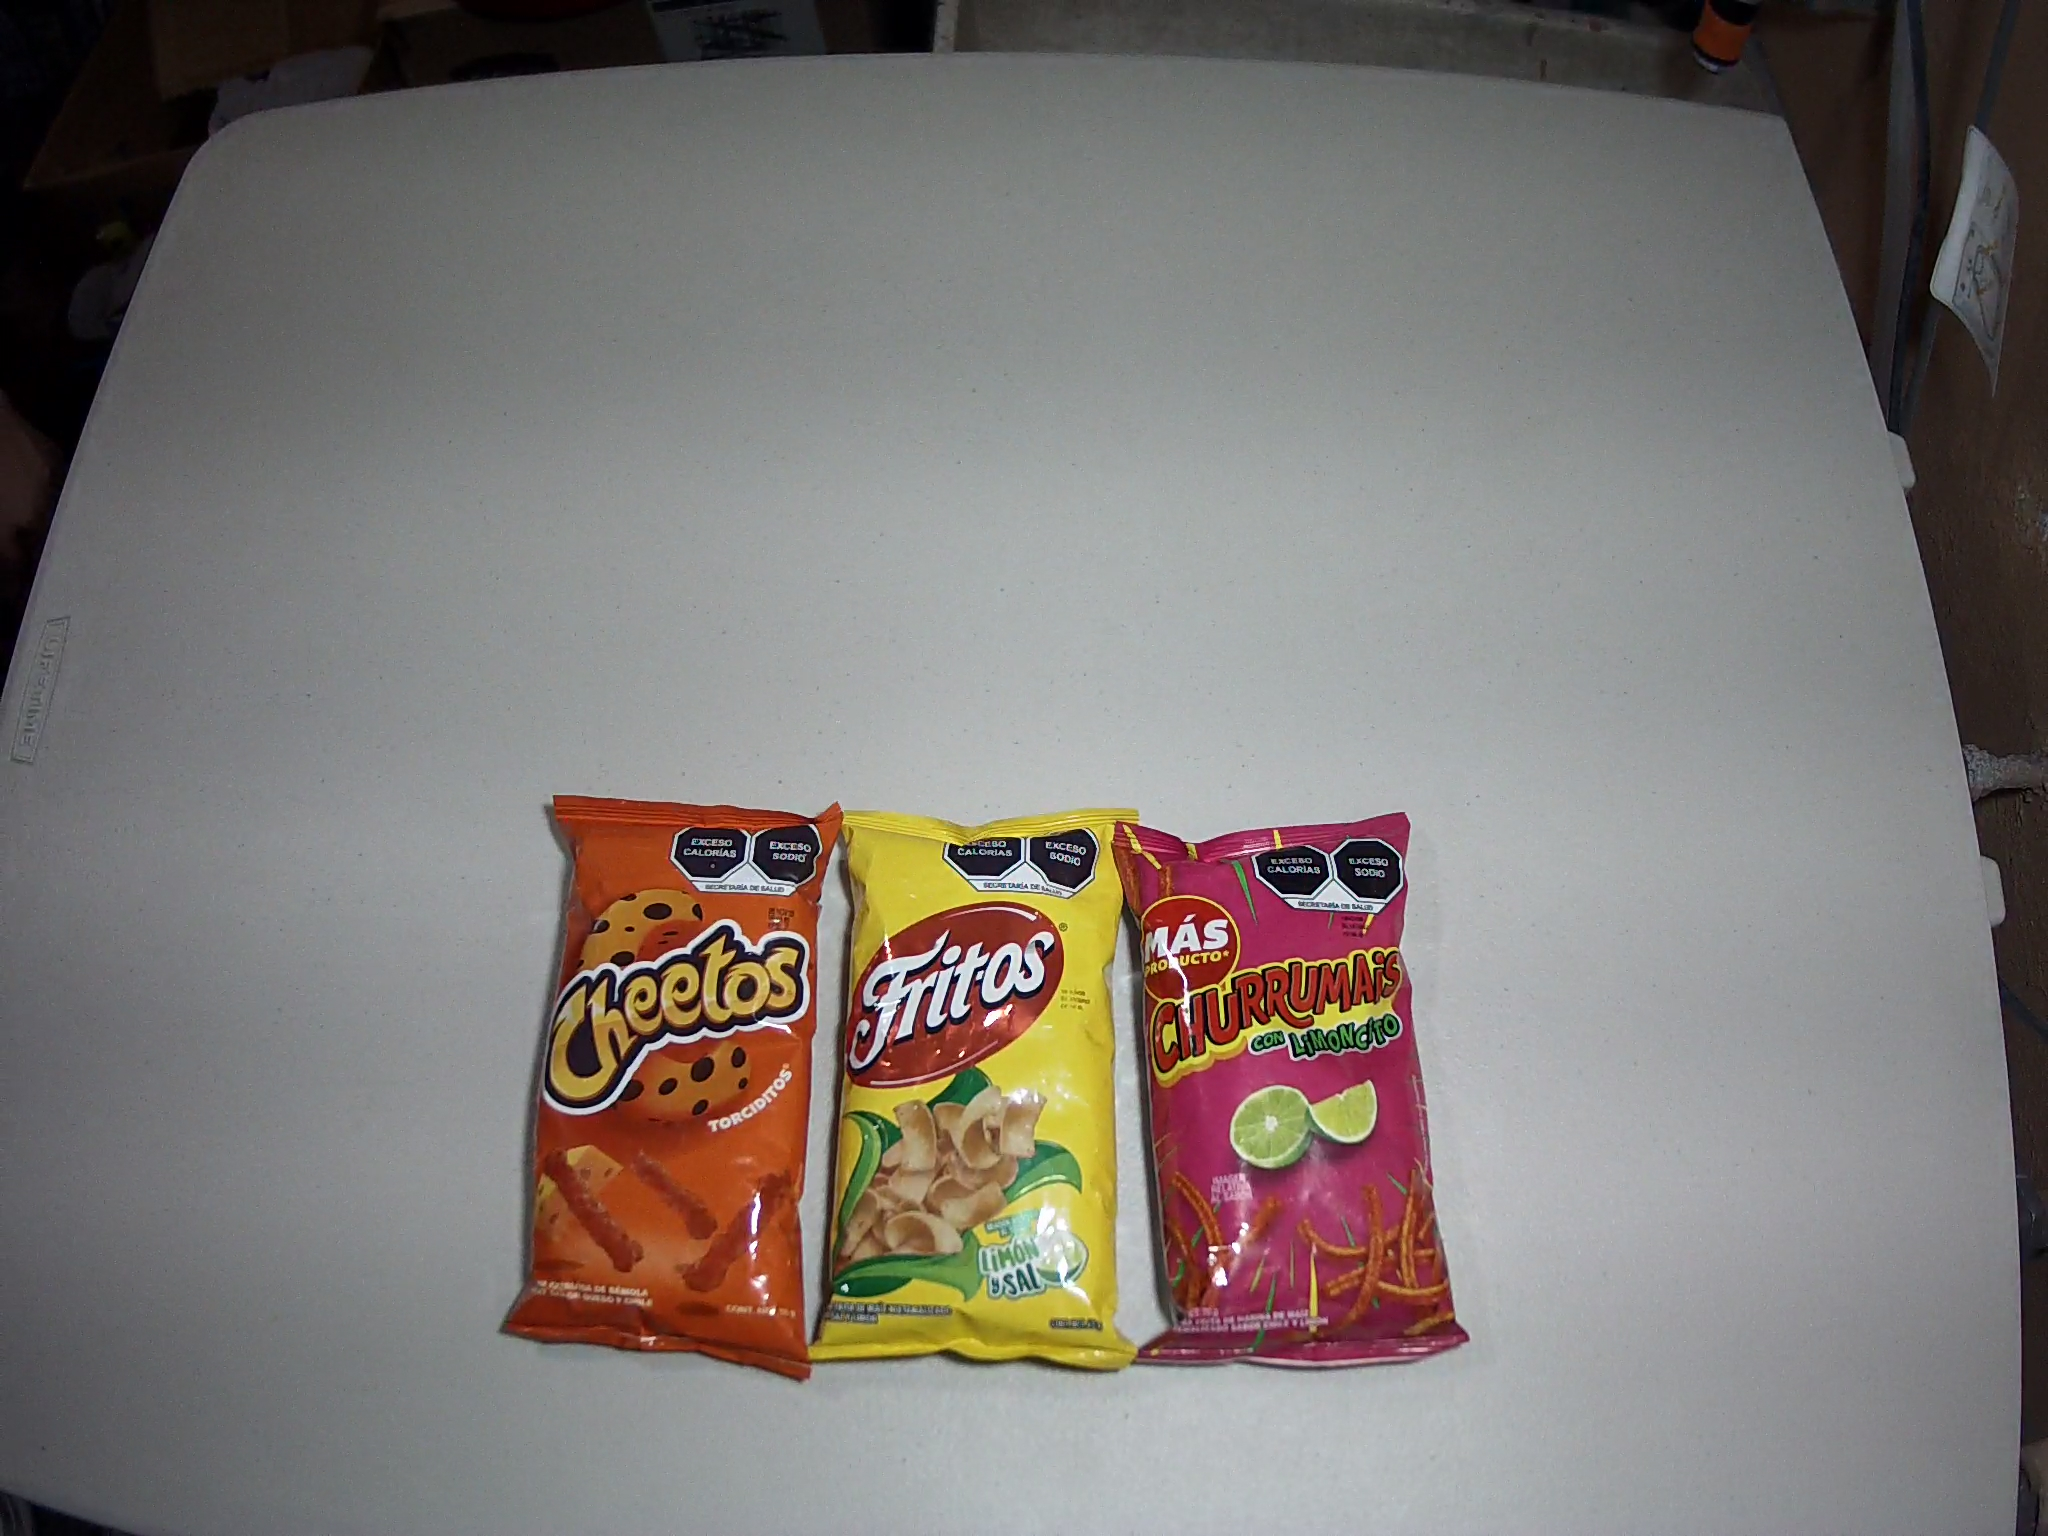CheetosTorciditos_55_F: (500, 794, 845, 1383)
Churrumais_70_F: (1109, 815, 1471, 1373)
FritosSalLimon_65_F: (806, 810, 1143, 1367)
